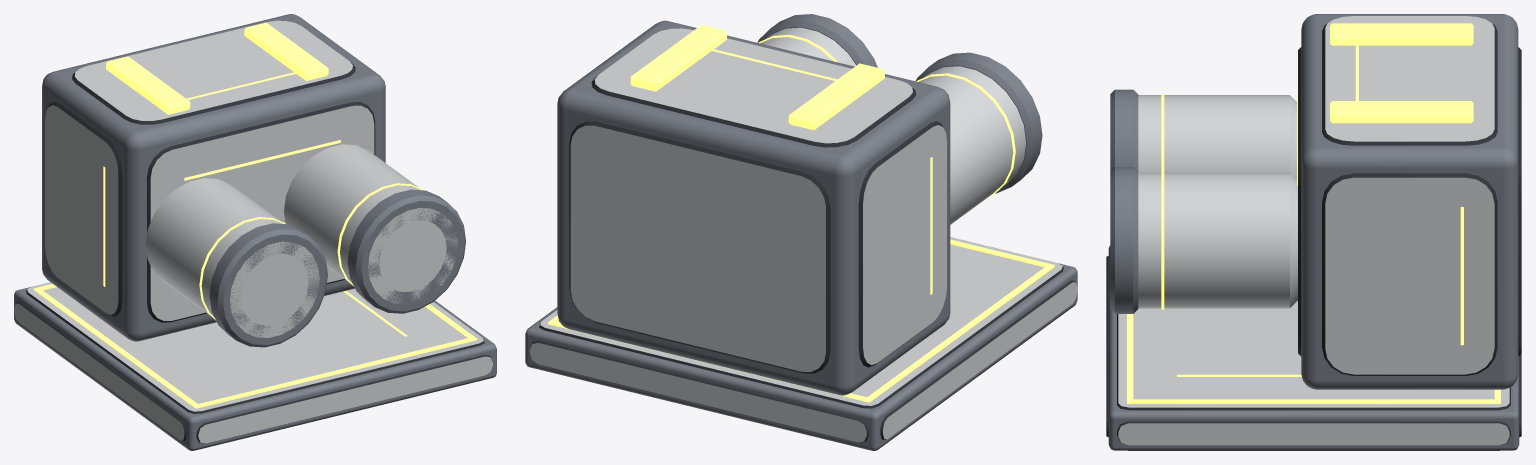
The model's file is R4X_DoubleShotPassive.fbx.
The picture shows the model from 3 angles, left to right: view 1: azimuth 30°, elevation 25°; view 2: azimuth 150°, elevation 25°; view 3: azimuth 270°, elevation 25°; orthographic projection. The views are drawn at different scales.
Parts seen in each view (by area): view 1: R4X_DoubleShotPassive_Body; view 2: R4X_DoubleShotPassive_Body; view 3: R4X_DoubleShotPassive_Body.
Part boxes in pixels (<box>): R4X_DoubleShotPassive_Body: <box>14,14,496,450</box>; R4X_DoubleShotPassive_Body: <box>525,14,1077,450</box>; R4X_DoubleShotPassive_Body: <box>1106,14,1521,450</box>.
Bounding box in the file's own units: 0.52 × 0.415 × 0.52.
